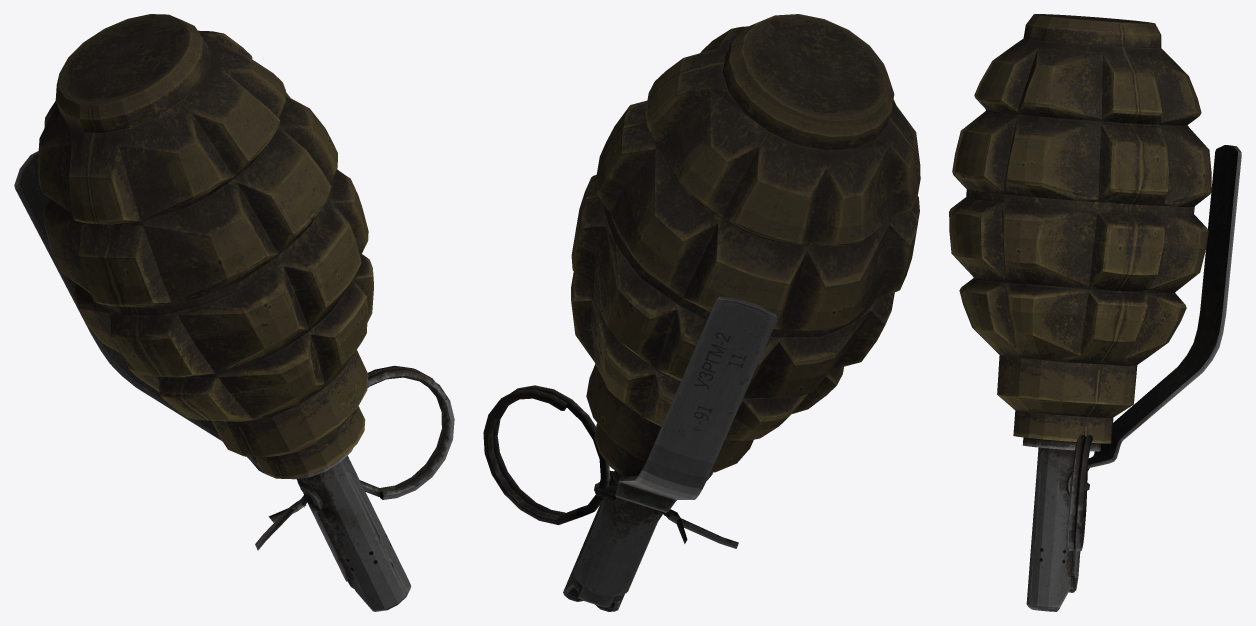
3 views of the same model, side by side, from view 1: azimuth 30°, elevation 25°; view 2: azimuth 150°, elevation 25°; view 3: azimuth 270°, elevation 25° (orthographic). The views are drawn at different scales.
Parts seen in each view (by area): view 1: TW_5710c24ad2720bc3458b45a3_PZ_Import; view 2: TW_5710c24ad2720bc3458b45a3_PZ_Import; view 3: TW_5710c24ad2720bc3458b45a3_PZ_Import.
Part boxes in pixels (x1,y1,x2,y2): TW_5710c24ad2720bc3458b45a3_PZ_Import: [14, 14, 454, 611]; TW_5710c24ad2720bc3458b45a3_PZ_Import: [483, 14, 920, 611]; TW_5710c24ad2720bc3458b45a3_PZ_Import: [949, 14, 1241, 611].
Size of the model in its own units: 0.0533 by 0.0408 by 0.08.
1 material, 1 textured.
